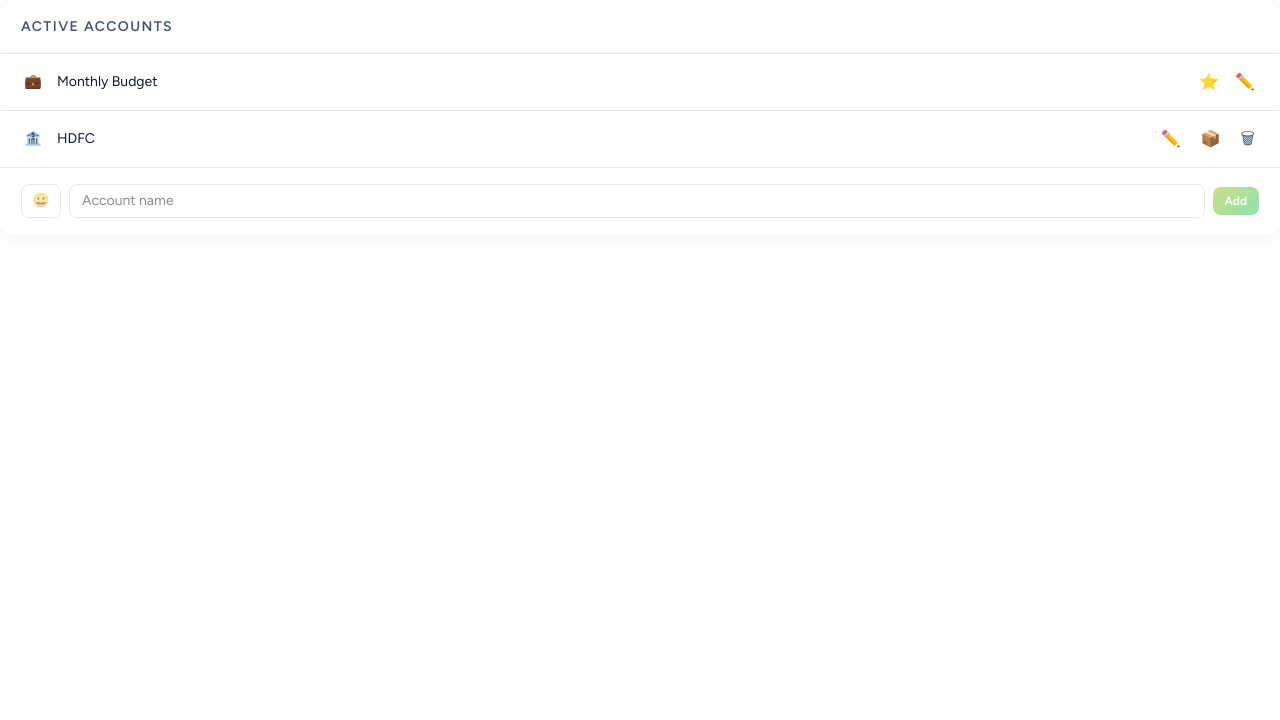
Test: AccountsTab — rename modal › shows rename modal when account name changes on save
Click the button named "Edit HDFC" at [1171, 139], box [1157, 123, 1185, 155]
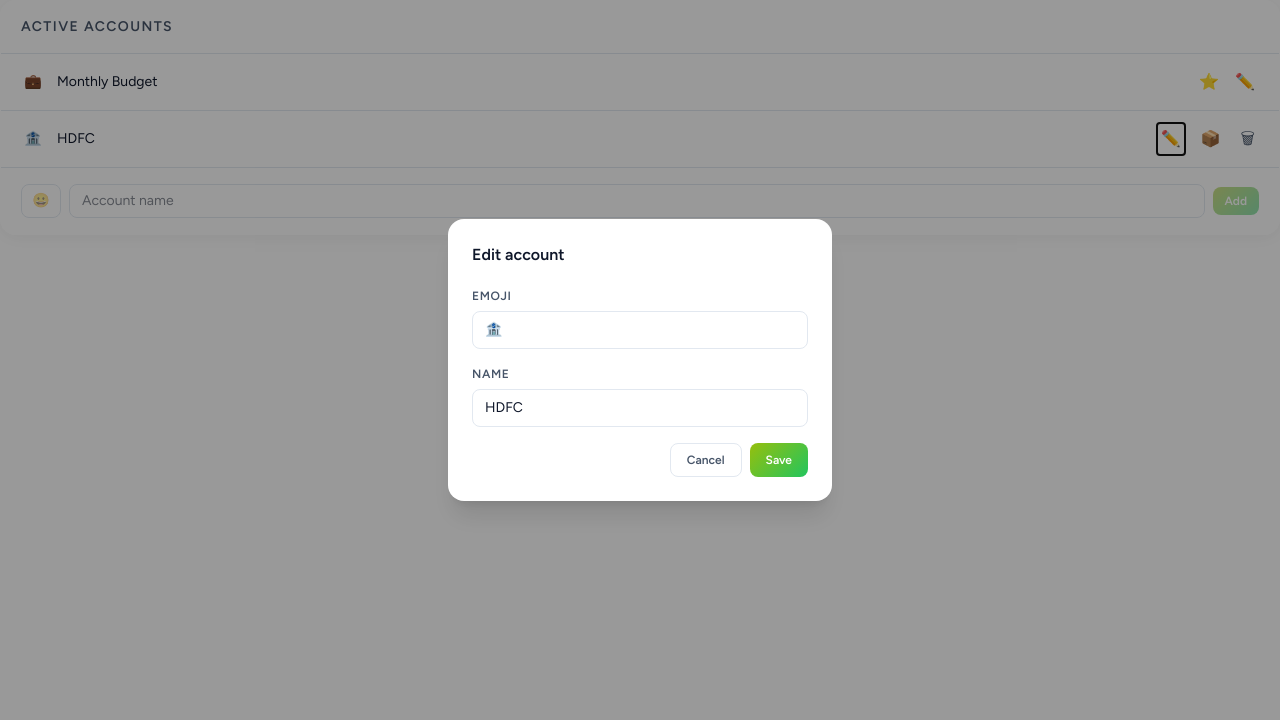
Replace the text in the field showing "HDFC" with "HDFC Savings" at [640, 408], box [472, 389, 808, 427]
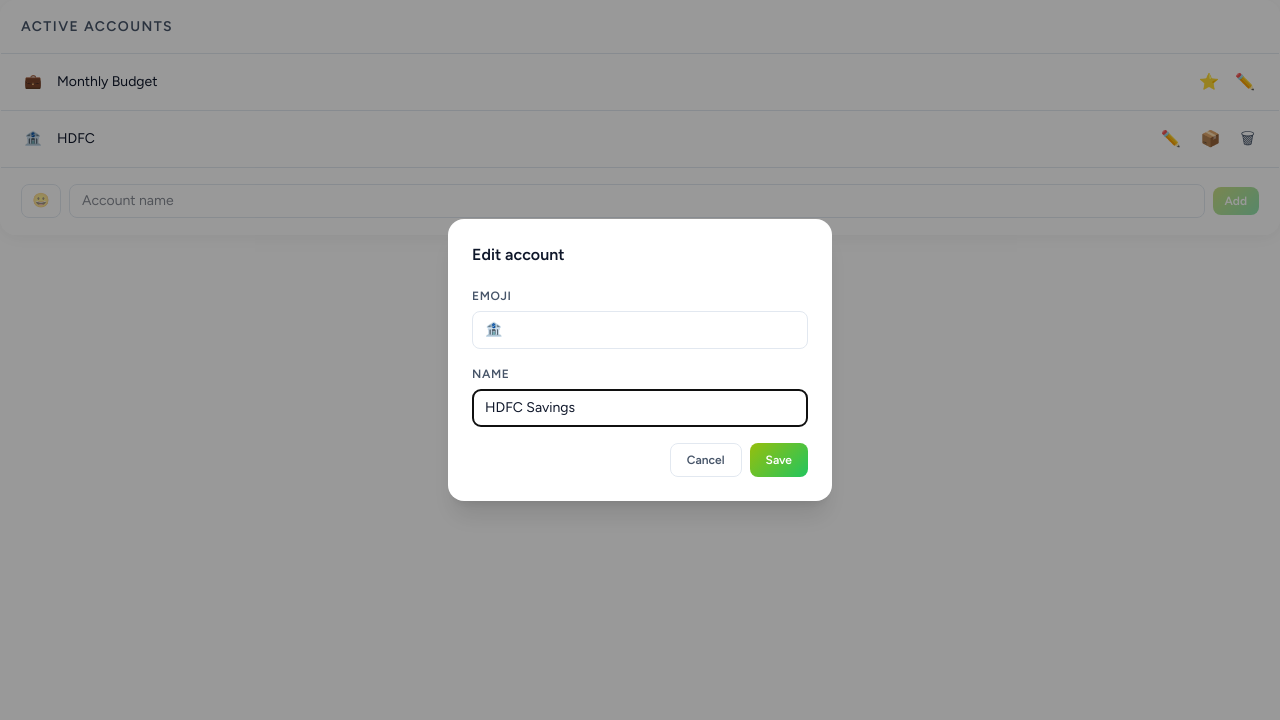
Click the button "Save" at [779, 460], box [750, 443, 808, 477]
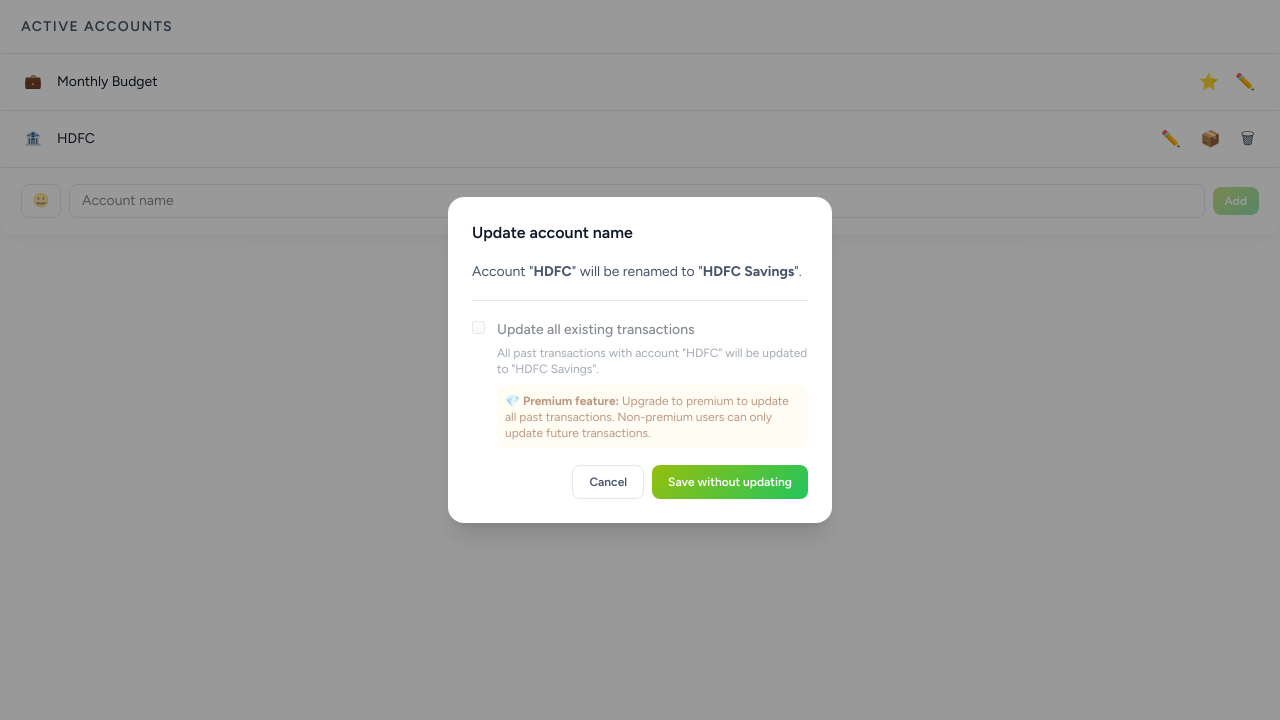
Result: the dialog "Update account name" is shown
